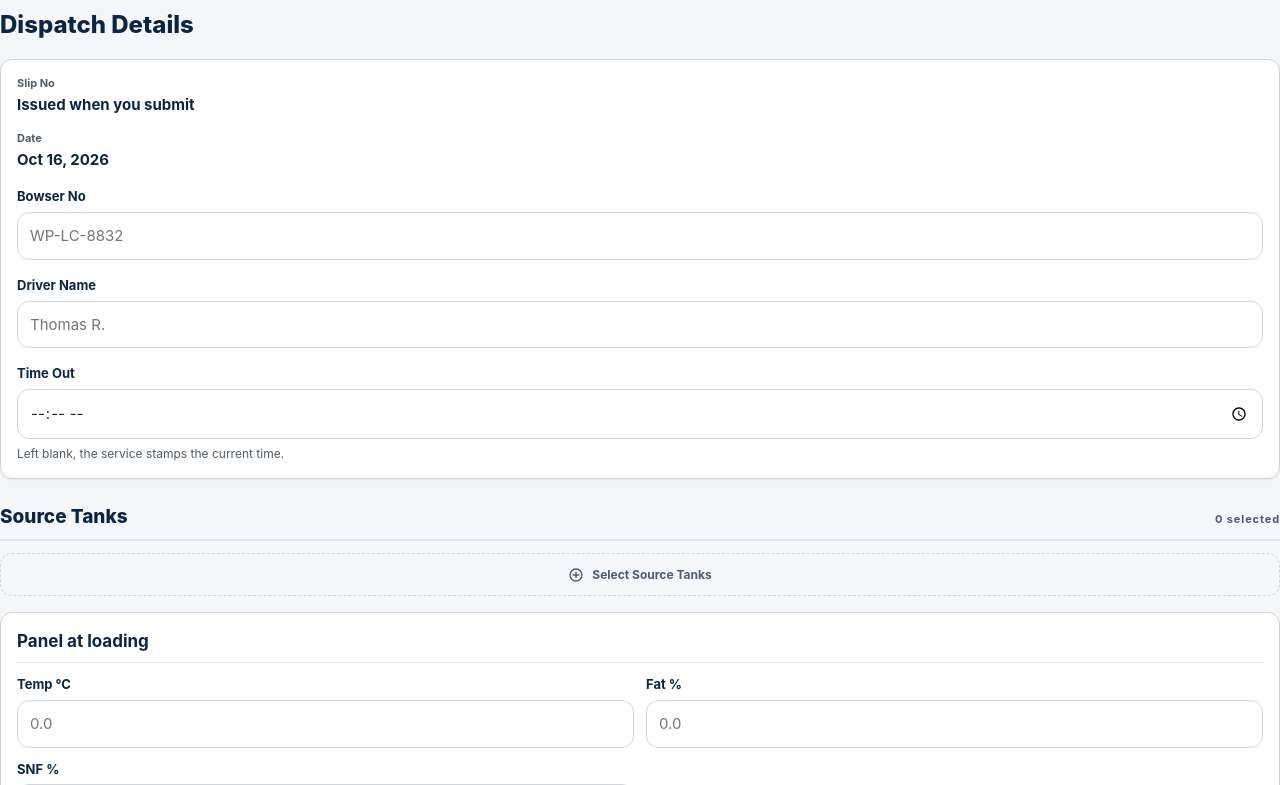
Test: recording a dispatch note › does not offer a tank with nothing in it
This screenshot has width=1280, height=785.
Click the button "Select Source Tanks" at (640, 575), box [0,553,1279,596]
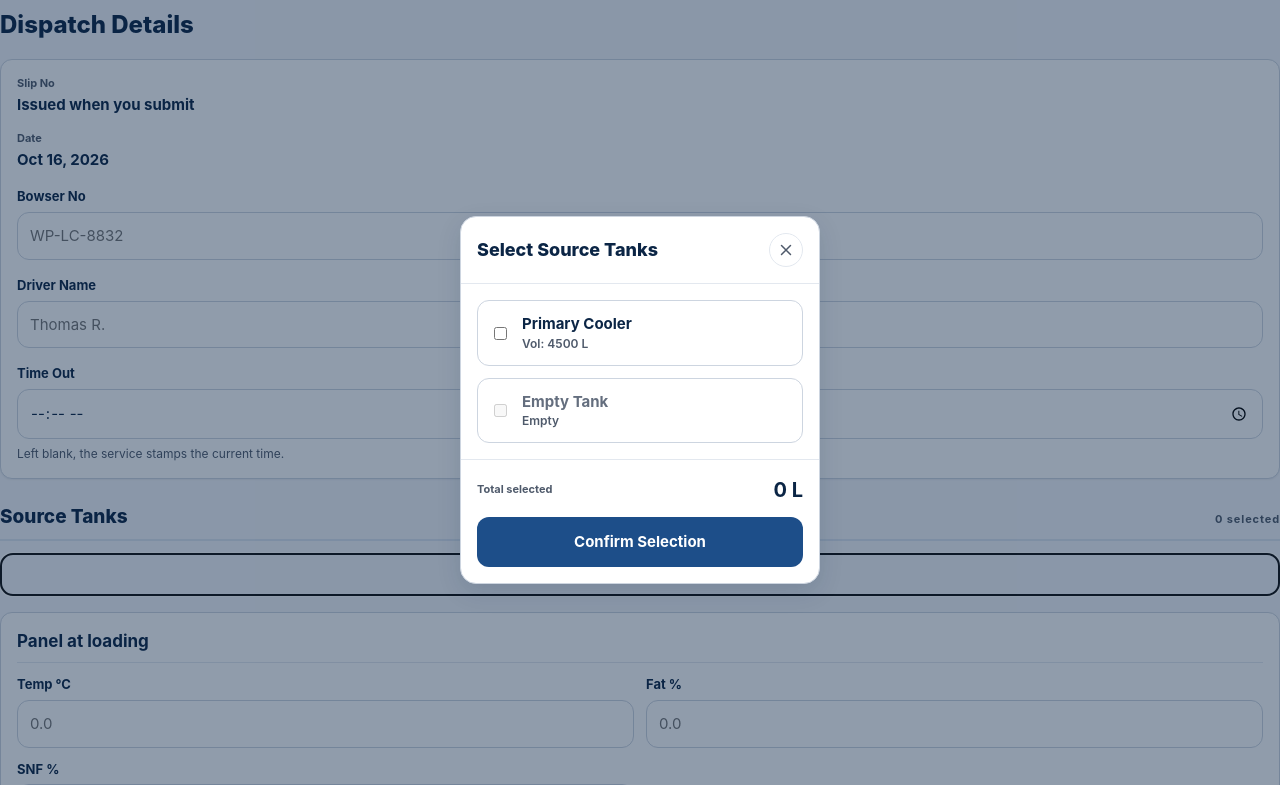
Expected: the checkbox labelled "Empty Tank Empty" is disabled, [494,404,507,417]
